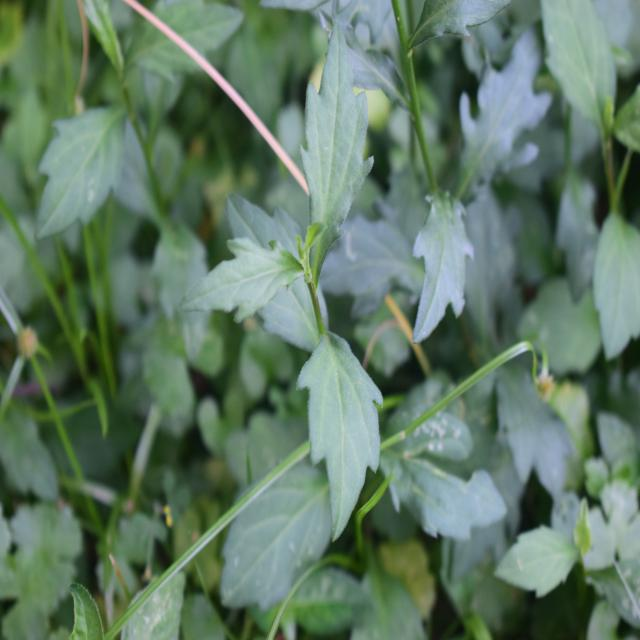Indian aster: (236, 58, 463, 554)
